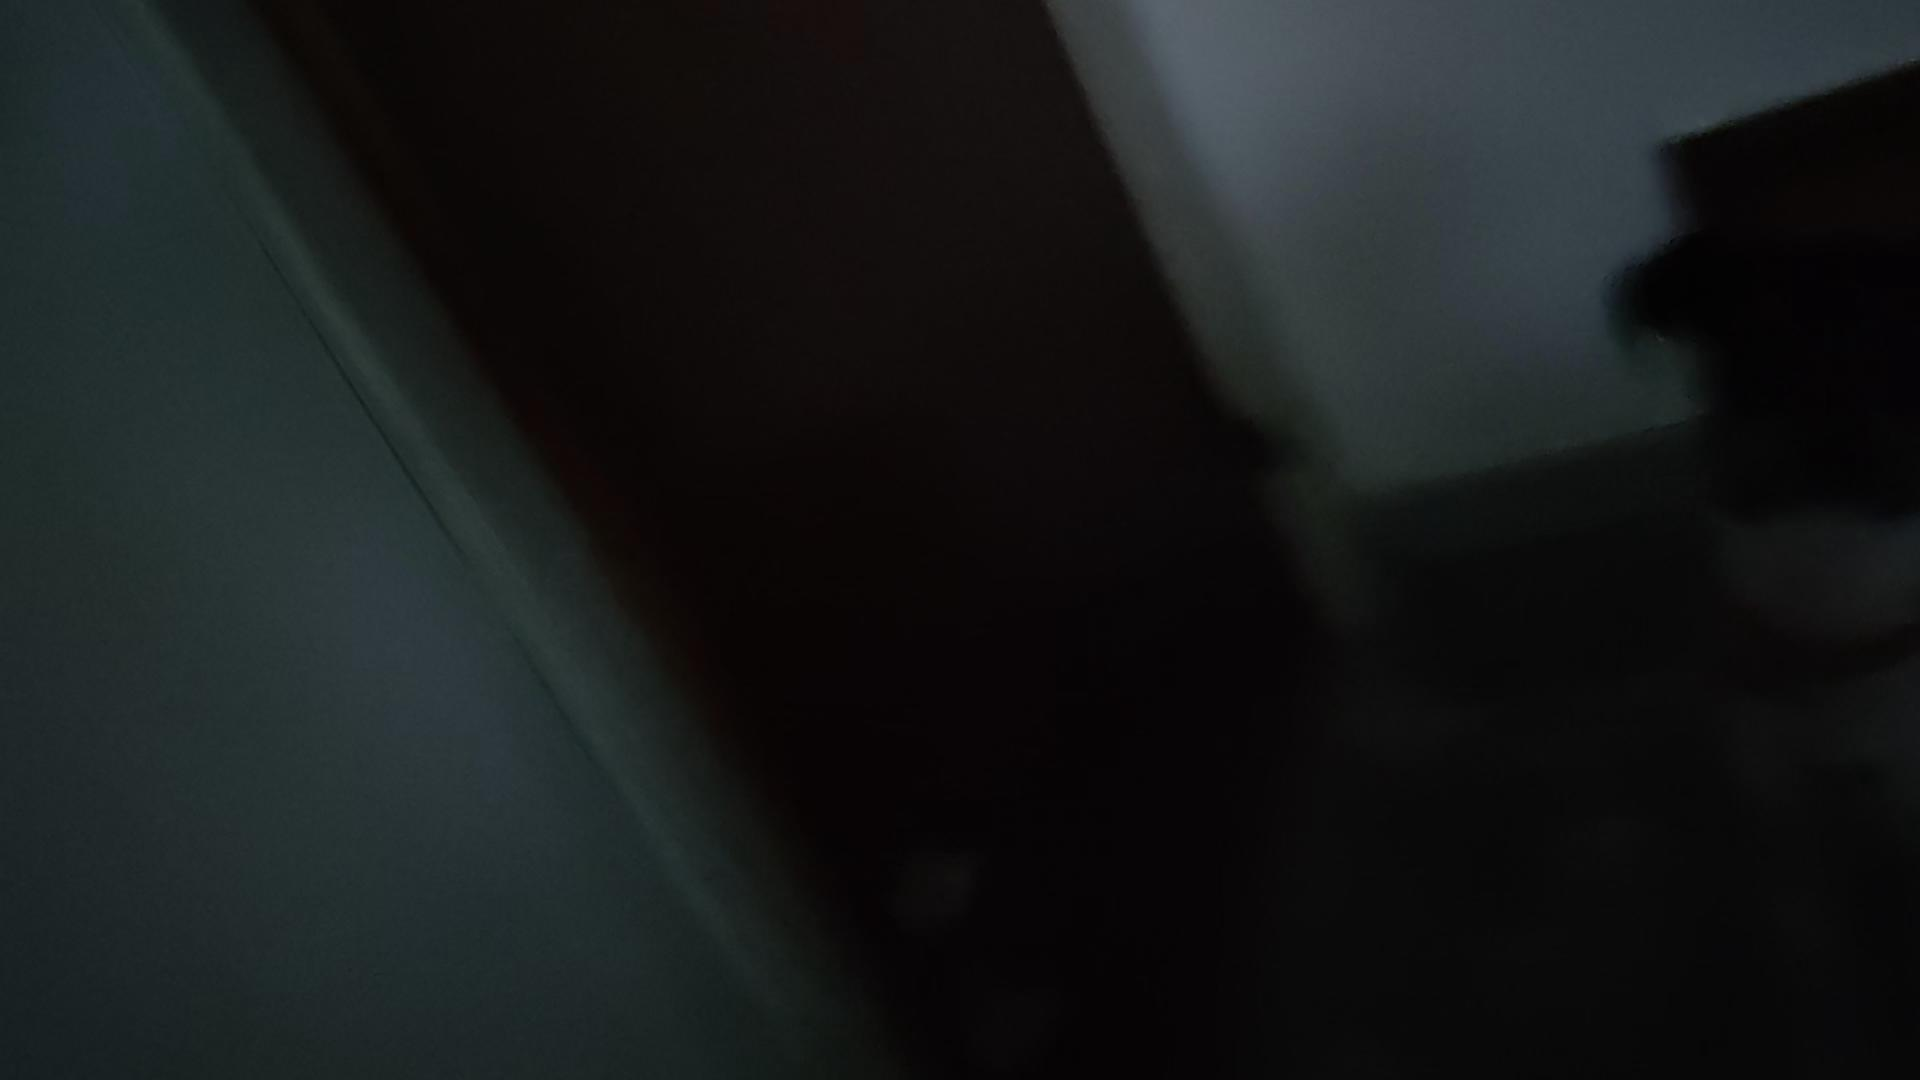Dog: (1601, 191, 1919, 1079)
